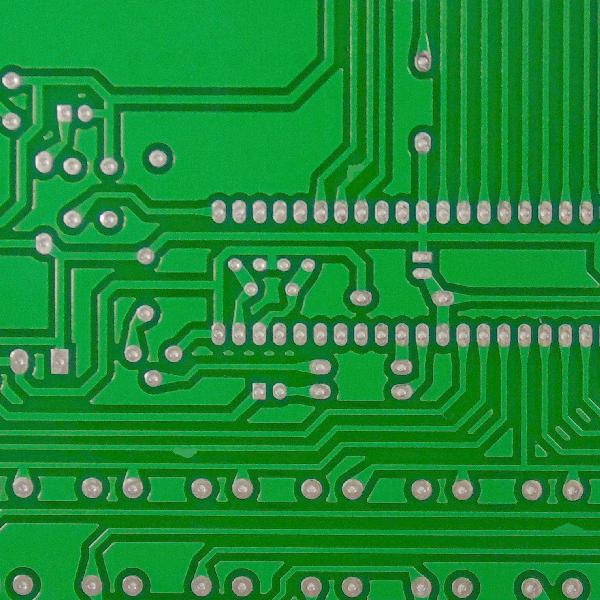spur: (166, 441, 206, 462), (549, 519, 585, 541), (344, 158, 366, 183)
